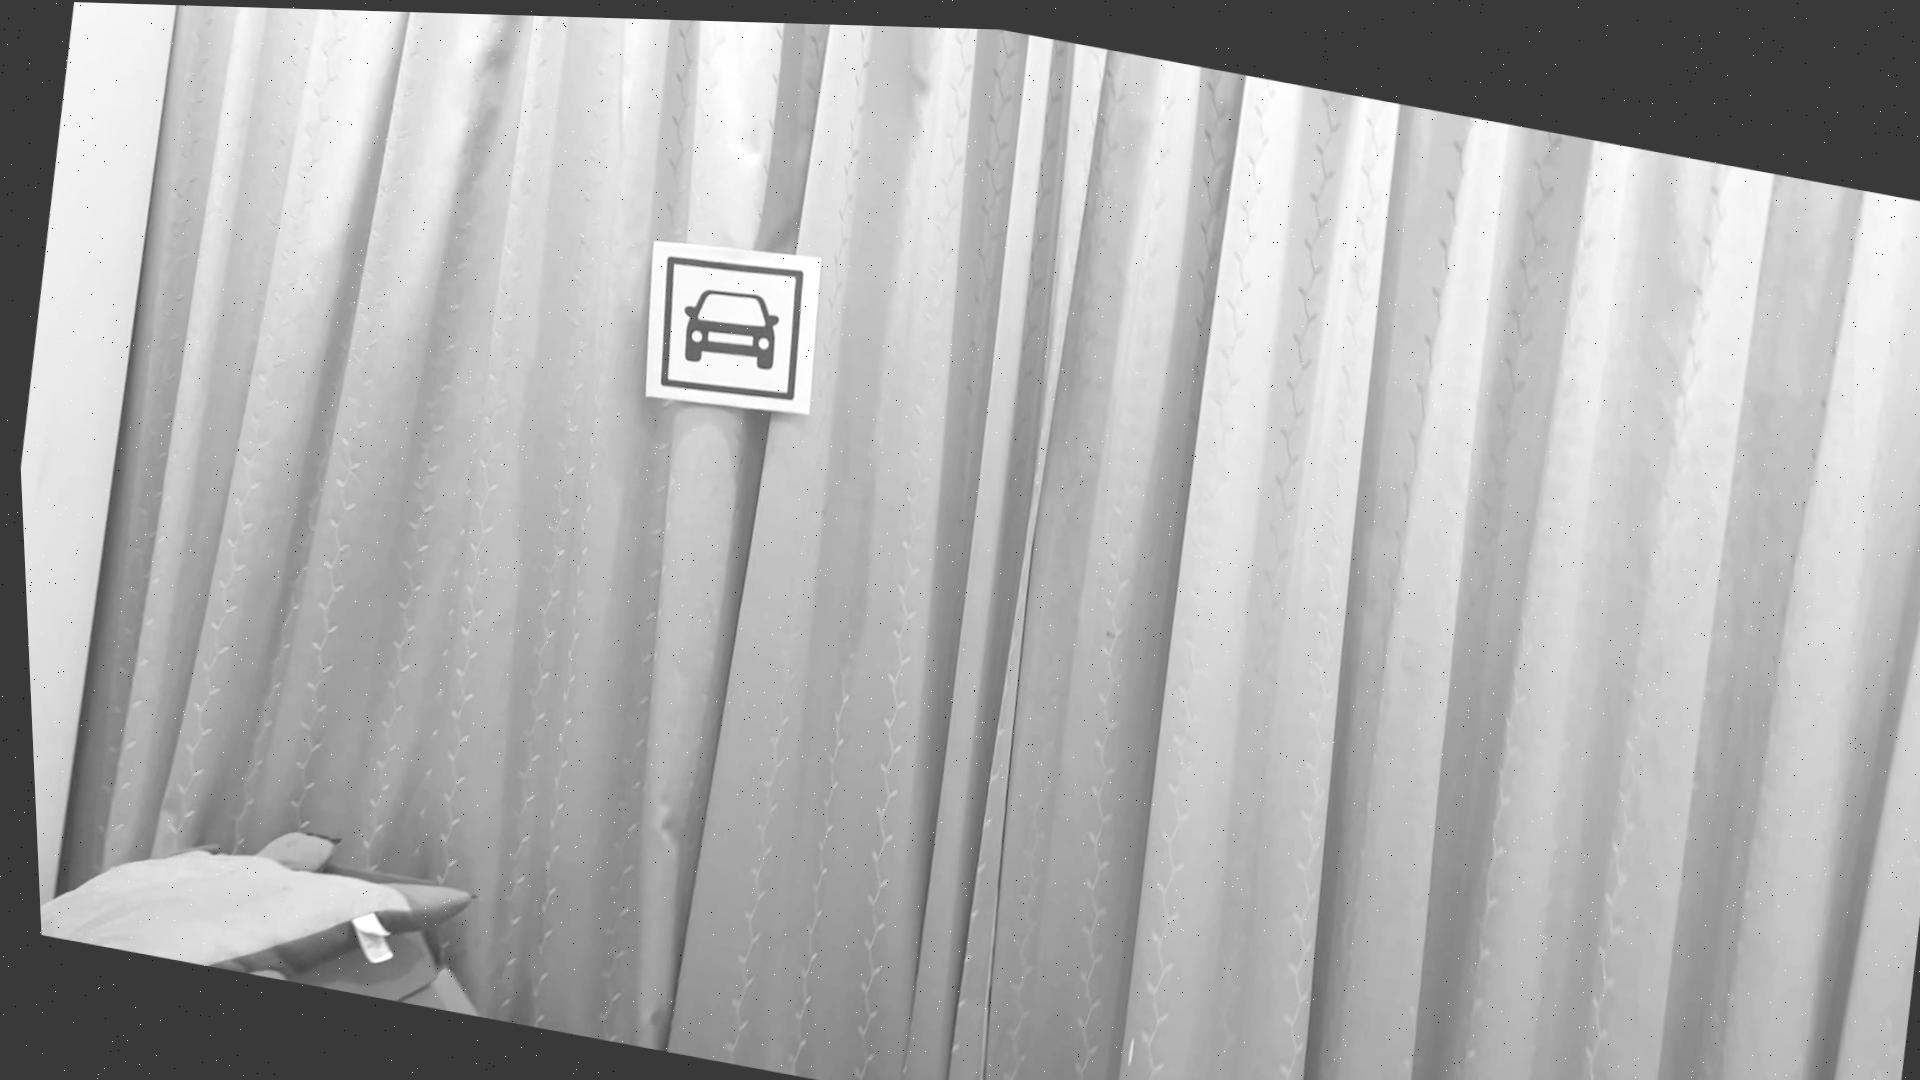car_img: (642, 237, 812, 407)
